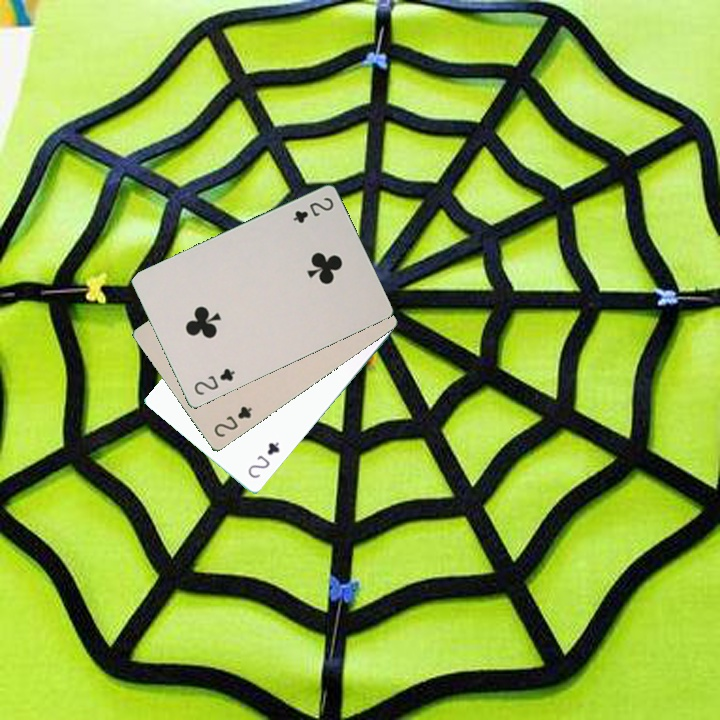2c: (210, 402, 255, 440), (244, 438, 282, 481), (190, 364, 238, 398), (289, 193, 336, 226)
